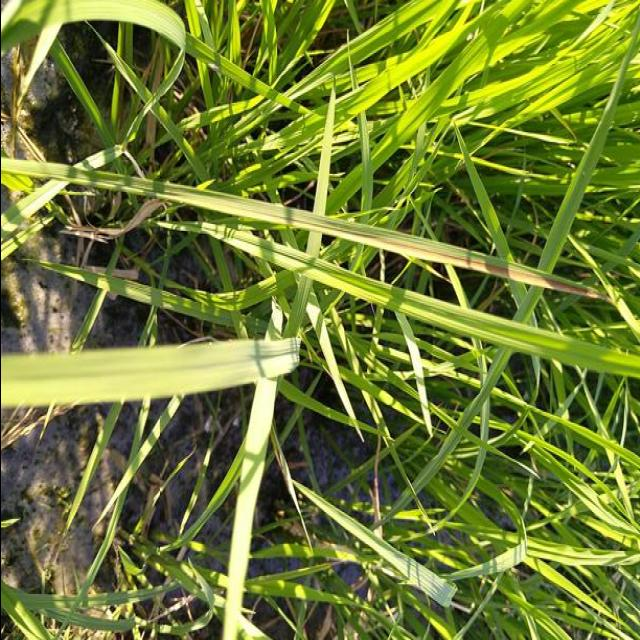Leaf Streak: (244, 198, 599, 296)
